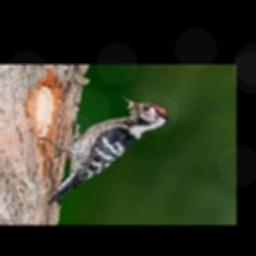Woodpecker: (39, 95, 169, 203)
